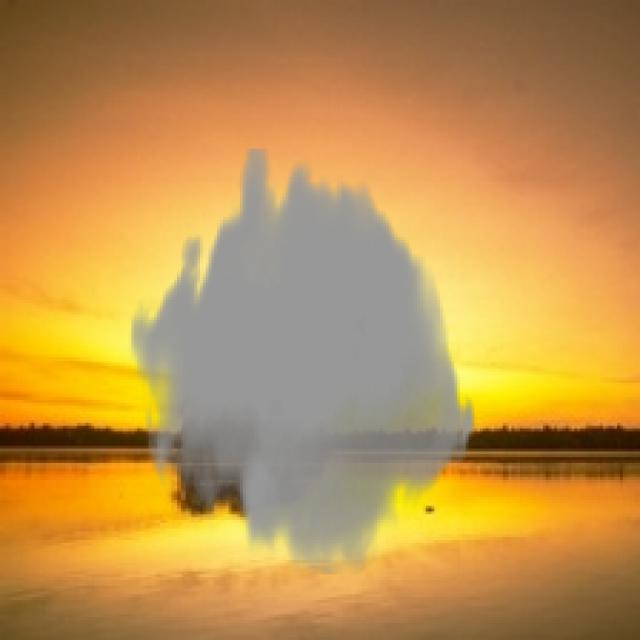Smoke: (128, 148, 478, 574)
